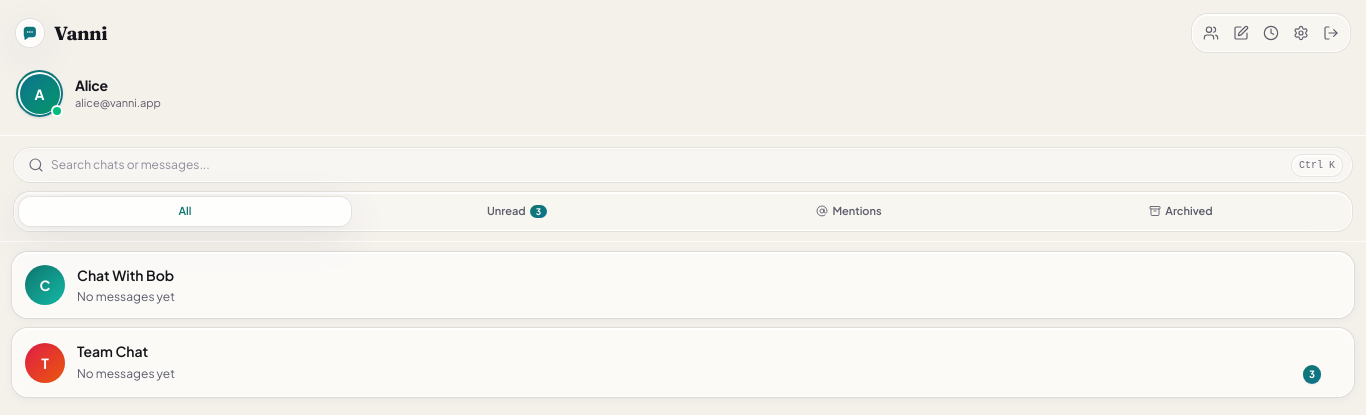
it: Phase 5 Groups, Presence & System Messages › Phase 6 Receipts, Unread Counts & Notifications › filters unread conversations when Unread tab is clicked in Sidebar
Check: the text "Chat With Bob" is shown, box [77, 264, 174, 284]
Check: the text "Team Chat" is shown, box [77, 341, 148, 361]
Click Unread tab
What coordinates should you click on to do the following:
click the button "Unread 3"
I would click on:
 (517, 211)
Its box is [351, 197, 683, 226].
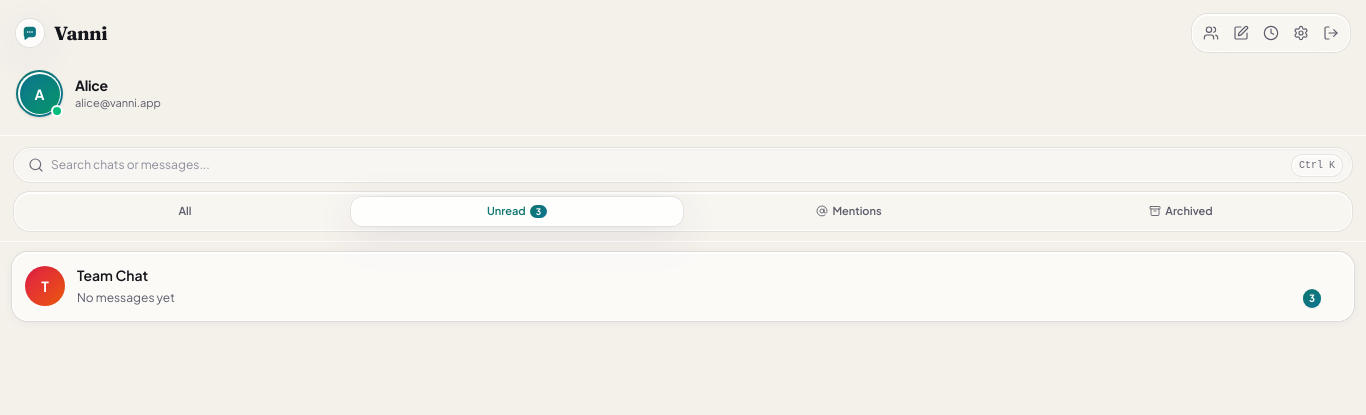
Check: the text "Team Chat" is shown, box [77, 264, 148, 284]
Check: the button "Chat With Bob" is gone
